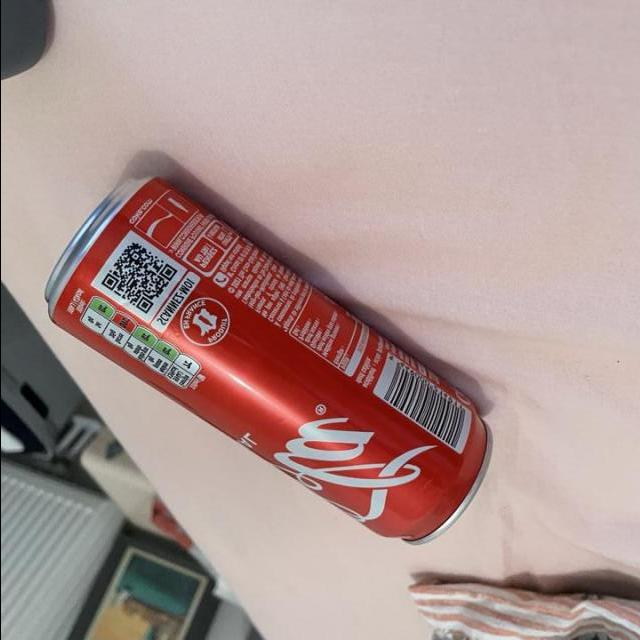can: (37, 174, 495, 550)
